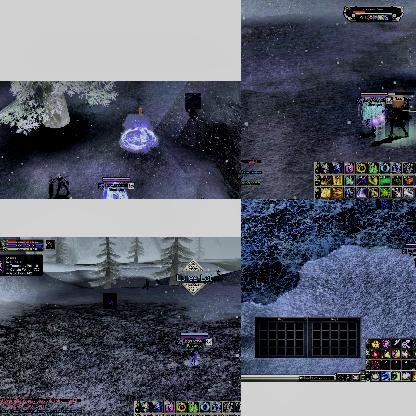caliana: (385, 101, 409, 137), (49, 172, 69, 199), (185, 93, 201, 109), (103, 293, 117, 309), (376, 199, 392, 208), (141, 280, 149, 290), (154, 279, 160, 287), (216, 269, 220, 275)
